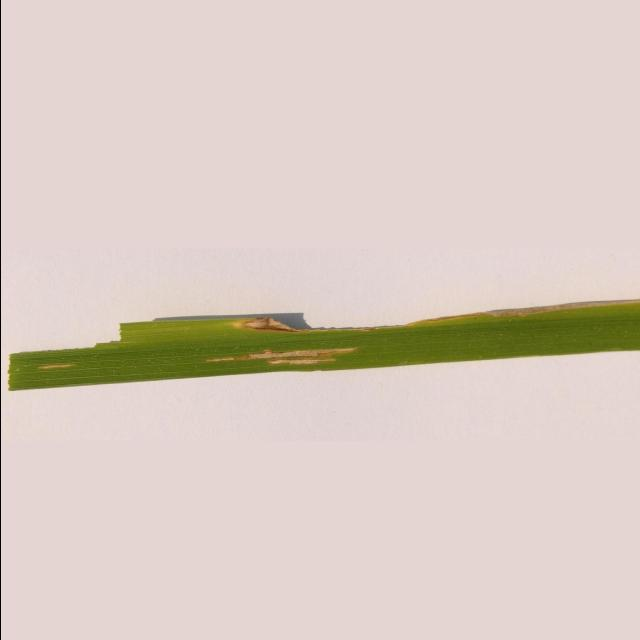Bacterial leaf blight: (203, 340, 369, 376), (221, 313, 309, 336), (32, 359, 87, 374)
